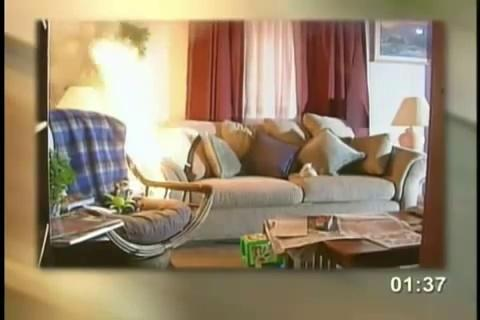fire: (50, 41, 212, 183)
